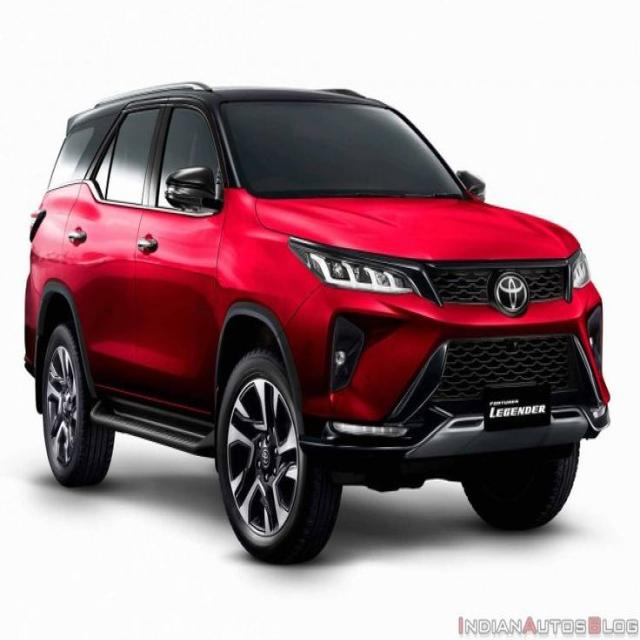light_vehicle: (22, 82, 608, 566)
